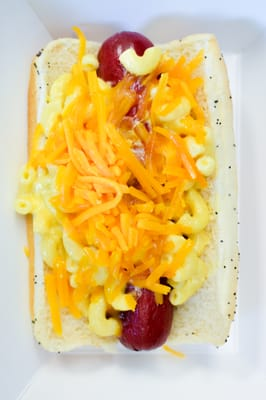sushi: (15, 26, 238, 353)
